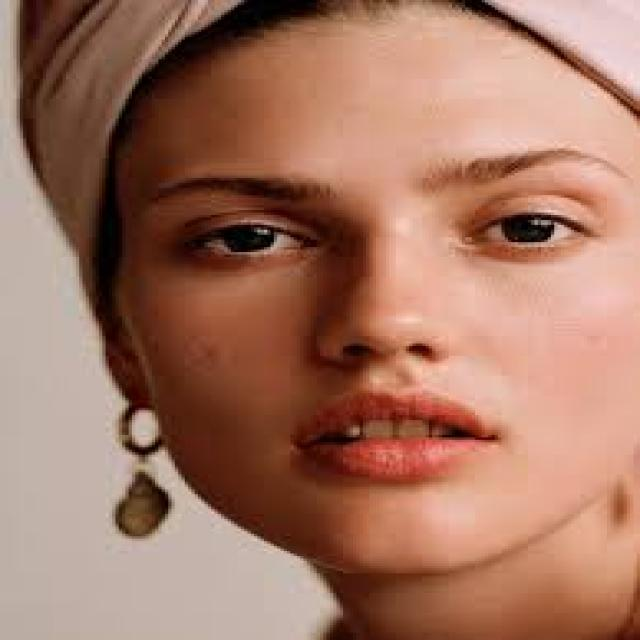Puffy Eyes - v3 Dark Circle: (467, 243, 598, 266), (202, 252, 306, 278)
